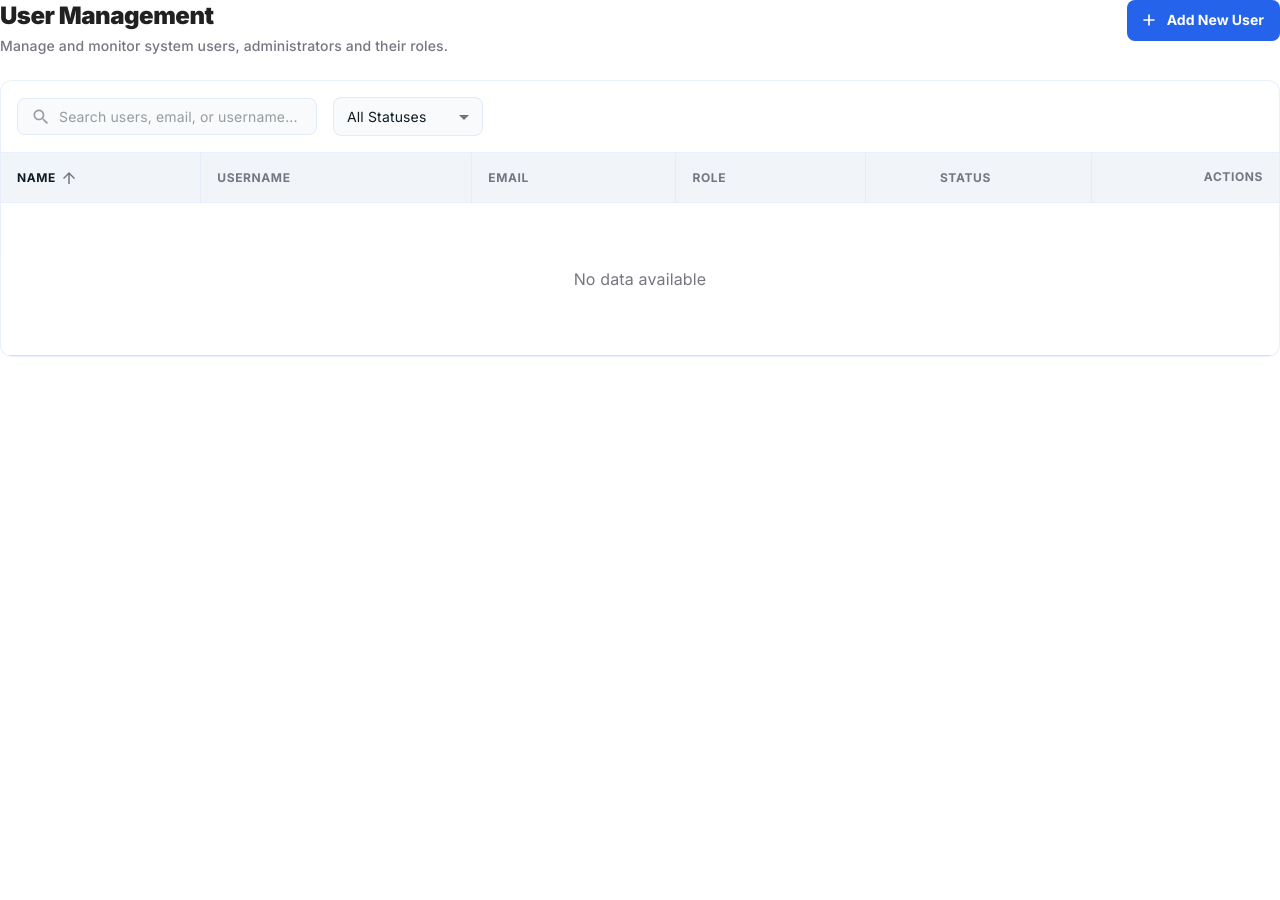
it: UsersPage › opens create modal when clicking Add New User button
The width and height of the screenshot is (1280, 900).
Click the button "Add New User". click: (1203, 20)
box: [1127,0,1279,40]
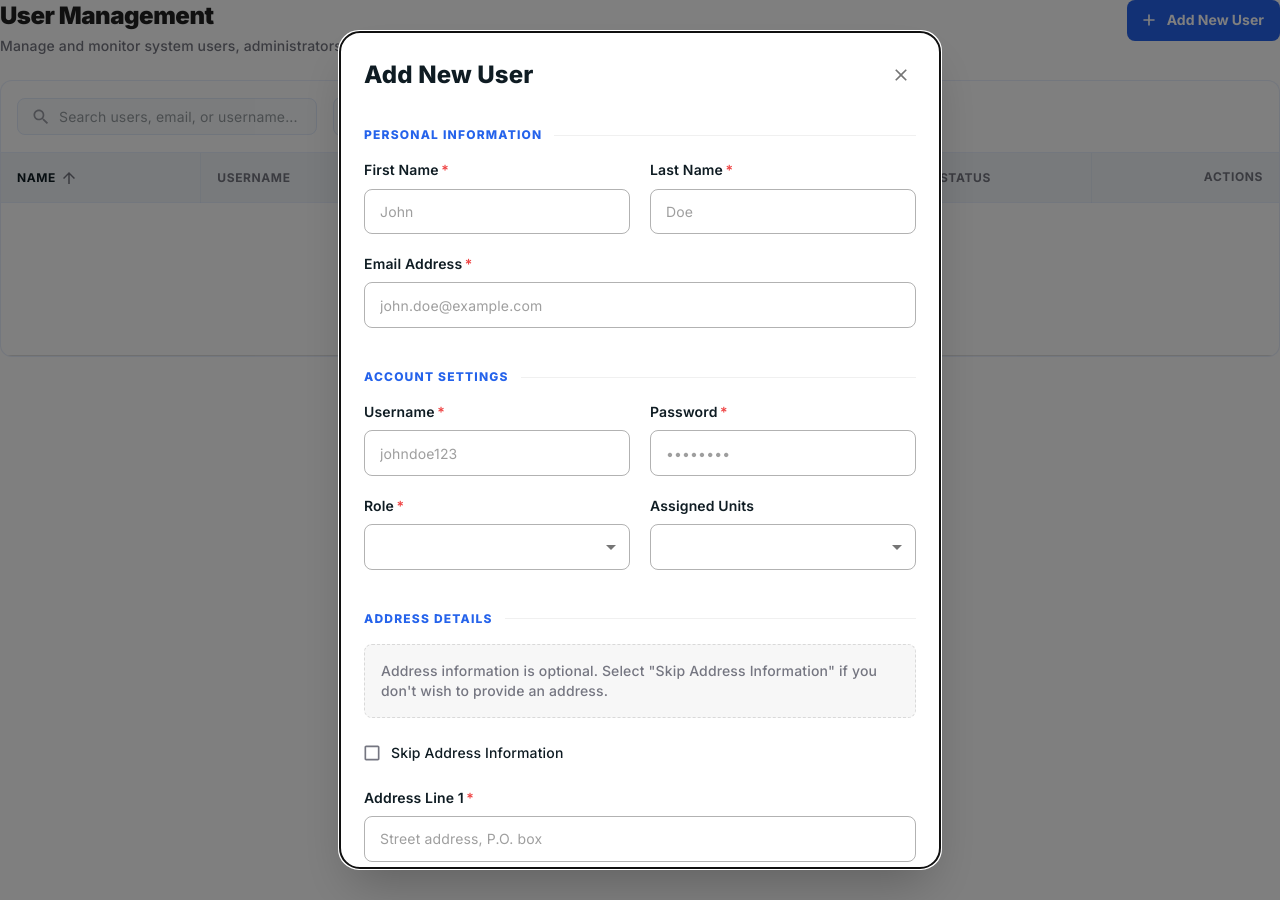
Expected: the dialog is shown, [340,32,940,868]
